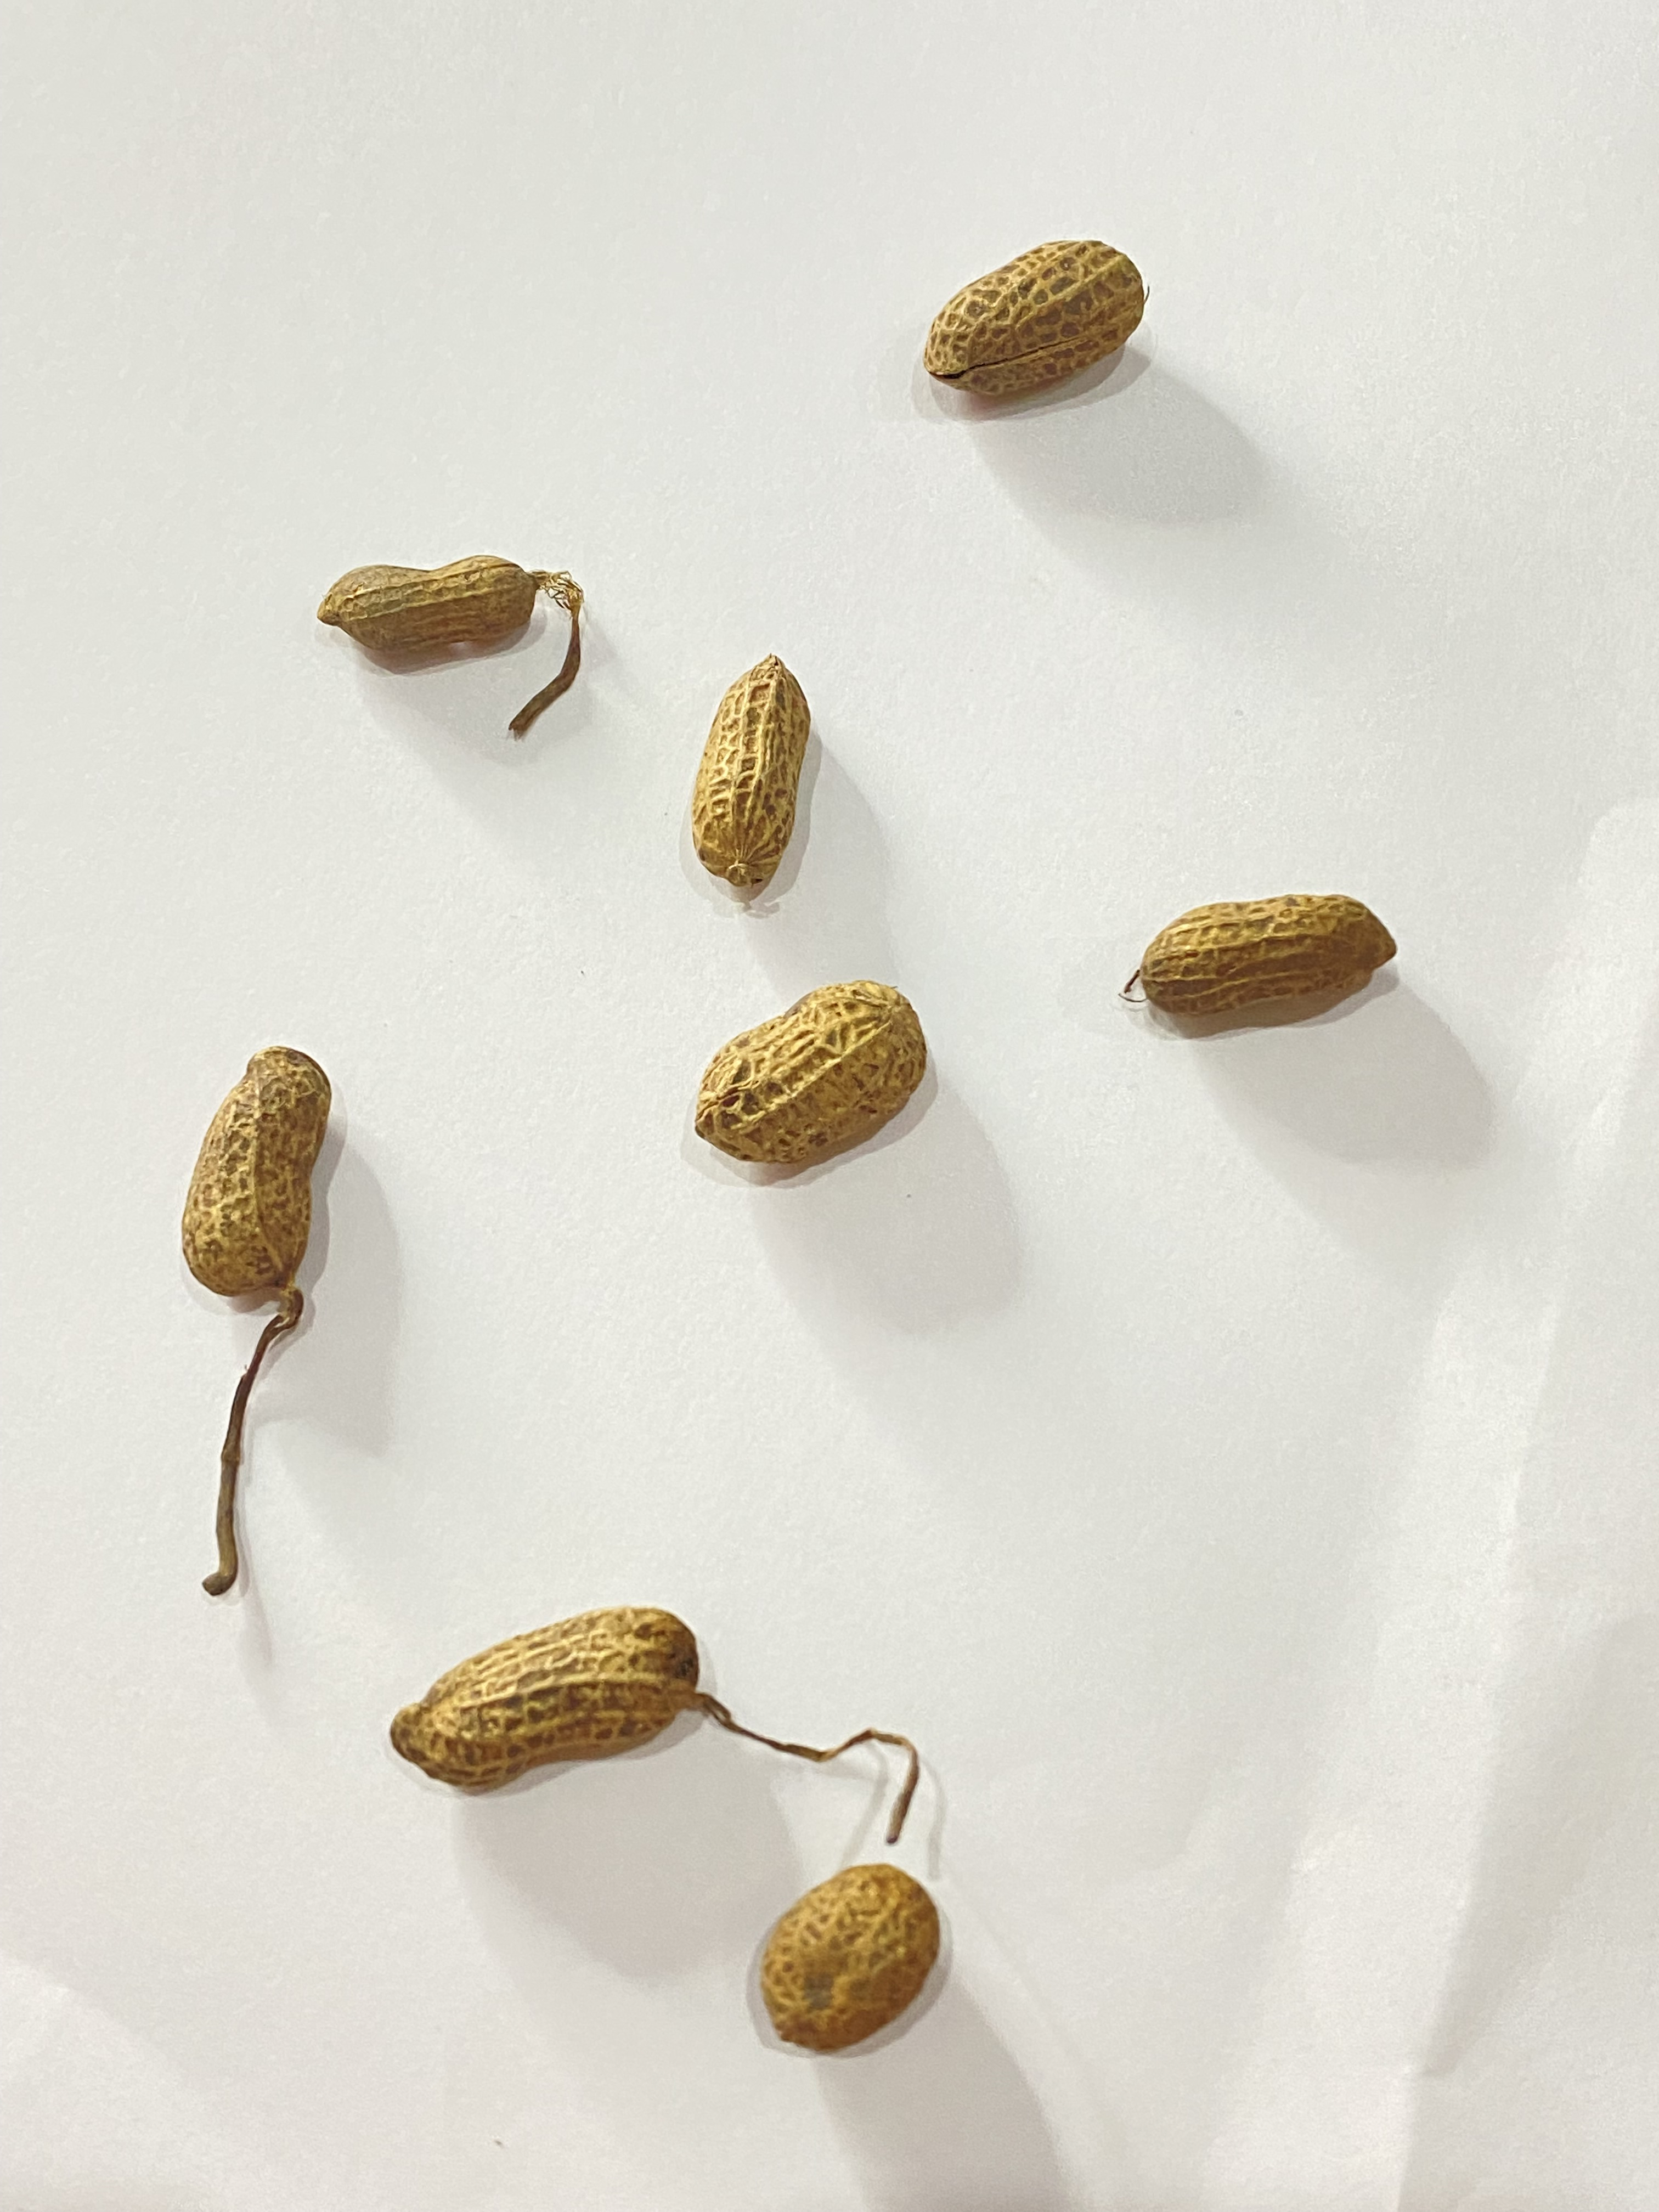kacang1: (694, 979, 927, 1162), (753, 1857, 945, 2048)
kacang2: (385, 1602, 704, 1799), (183, 1038, 333, 1301), (925, 240, 1148, 394), (1141, 895, 1399, 1019), (690, 650, 812, 890), (319, 554, 538, 651)
